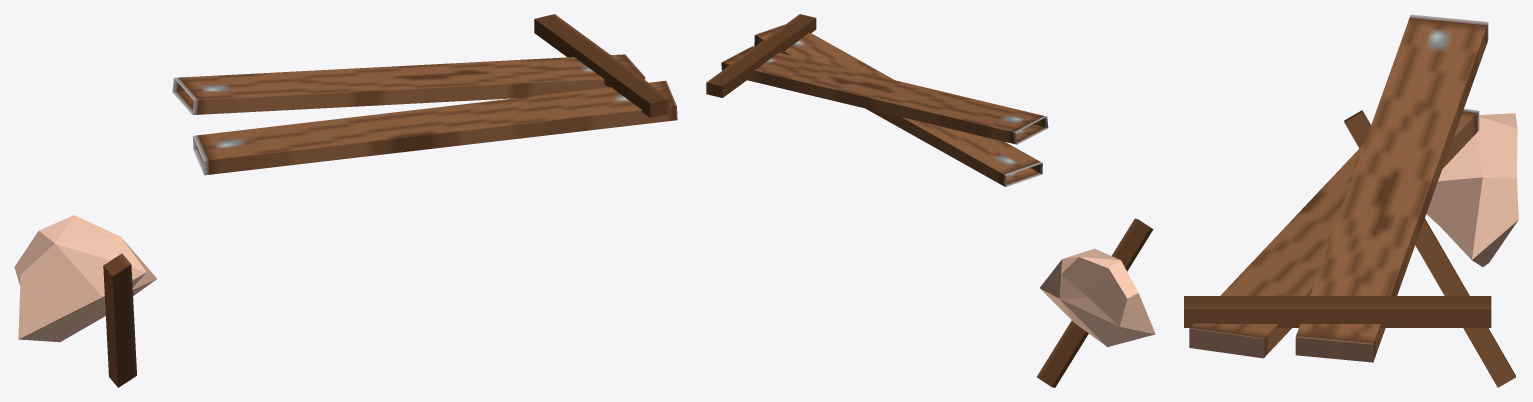
Rendered from valla 2.fbx.
3 renders of one model, left to right at view 1: azimuth 30°, elevation 25°; view 2: azimuth 150°, elevation 25°; view 3: azimuth 270°, elevation 25°, orthographic. The views are drawn at different scales.
Parts seen in each view (by area): view 1: vallita 2; view 2: vallita 2; view 3: vallita 2.
Boxes of the visible parts, x1,y1,x2,y2 form: vallita 2: (14,14,677,387); vallita 2: (706,14,1155,387); vallita 2: (1184,14,1518,387).
Size of the model in its own units: 293 by 147 by 112.
